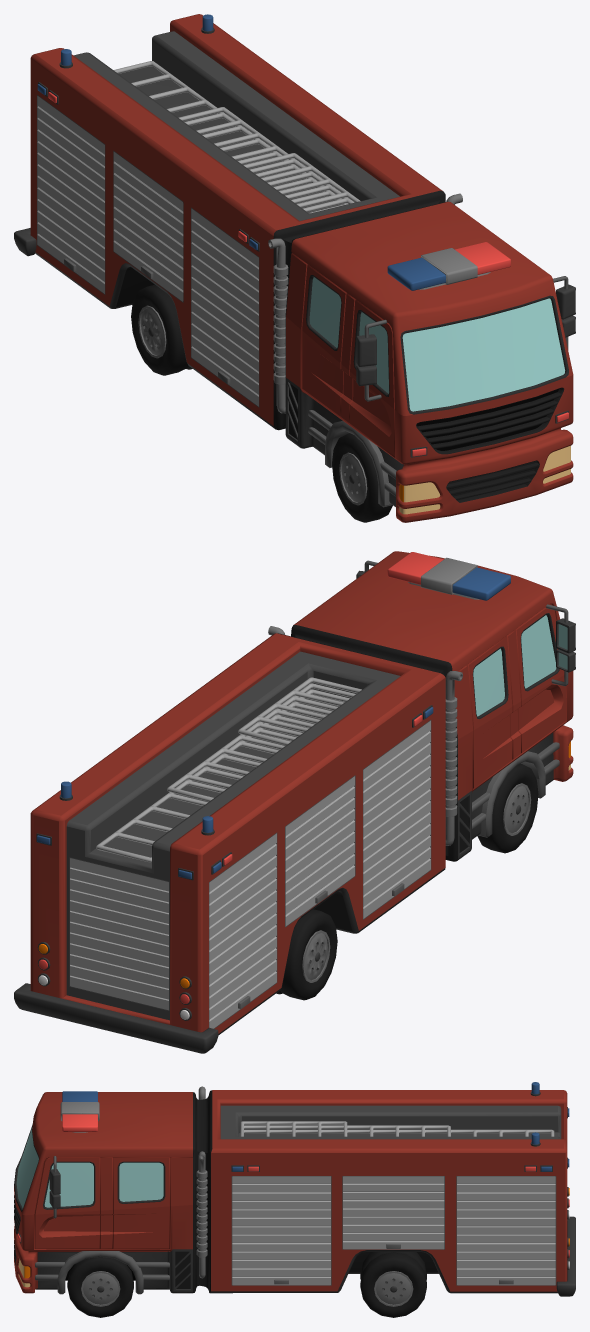
File: SM_Vehicles_FireEngine.fbx
The picture shows the model from 3 angles, top to bottom: view 1: azimuth 30°, elevation 25°; view 2: azimuth 150°, elevation 25°; view 3: azimuth 270°, elevation 25°; orthographic projection. The views are drawn at different scales.
Parts seen in each view (by area): view 1: SM_Vehicles_FireEngine, SM_Vehicles_FireEngine_RR, SM_Vehicles_FireEngine_FR; view 2: SM_Vehicles_FireEngine, SM_Vehicles_FireEngine_RR, SM_Vehicles_FireEngine_FR; view 3: SM_Vehicles_FireEngine, SM_Vehicles_FireEngine_RL, SM_Vehicles_FireEngine_FL.
Part boxes in pixels (box(x1,y1,x2,y2)): SM_Vehicles_FireEngine: box(14, 14, 575, 522); SM_Vehicles_FireEngine_RR: box(131, 284, 192, 375); SM_Vehicles_FireEngine_FR: box(332, 433, 392, 522); SM_Vehicles_FireEngine: box(14, 551, 575, 1053); SM_Vehicles_FireEngine_RR: box(276, 909, 337, 1000); SM_Vehicles_FireEngine_FR: box(477, 763, 538, 853); SM_Vehicles_FireEngine: box(14, 1082, 575, 1296); SM_Vehicles_FireEngine_RL: box(360, 1252, 426, 1317); SM_Vehicles_FireEngine_FL: box(67, 1257, 133, 1317).
Size of the model in its own units: 2.49 by 2.75 by 7.67.
